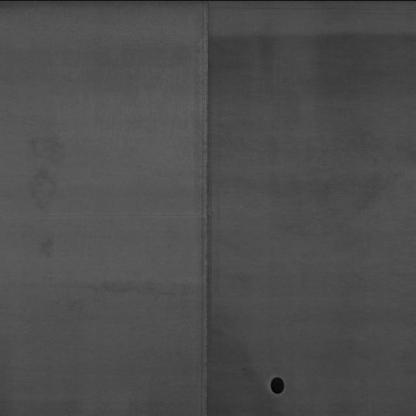punching_hole: (262, 372, 292, 398)
welding_line: (193, 1, 222, 415)
